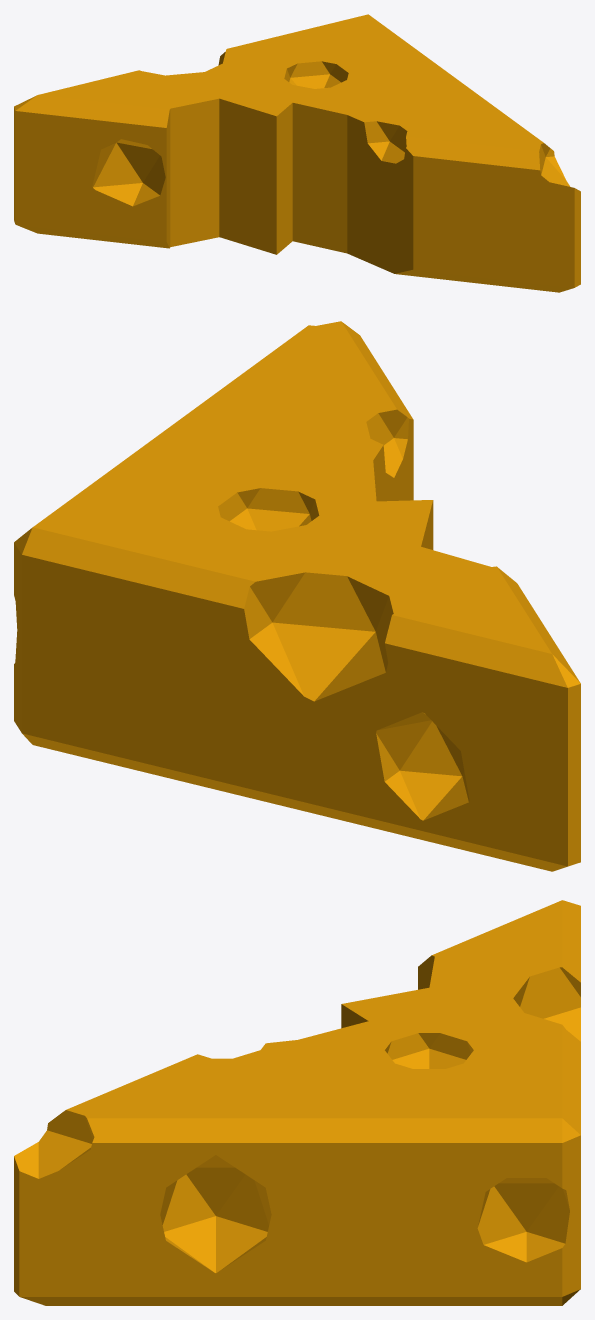
Rendered from SwissCheeseWedge.glb.
3 views of the same model, one above another, from view 1: azimuth 30°, elevation 25°; view 2: azimuth 150°, elevation 25°; view 3: azimuth 270°, elevation 25° (orthographic). The views are drawn at different scales.
Parts seen in each view (by area): view 1: SwissCheeseWedge; view 2: SwissCheeseWedge; view 3: SwissCheeseWedge.
Boxes of the visible parts, x1,y1,x2,y2 form: SwissCheeseWedge: [14, 14, 580, 292]; SwissCheeseWedge: [14, 321, 580, 871]; SwissCheeseWedge: [14, 900, 580, 1305].
Size of the model in its own units: 0.1223 by 0.0446 by 0.1223.
